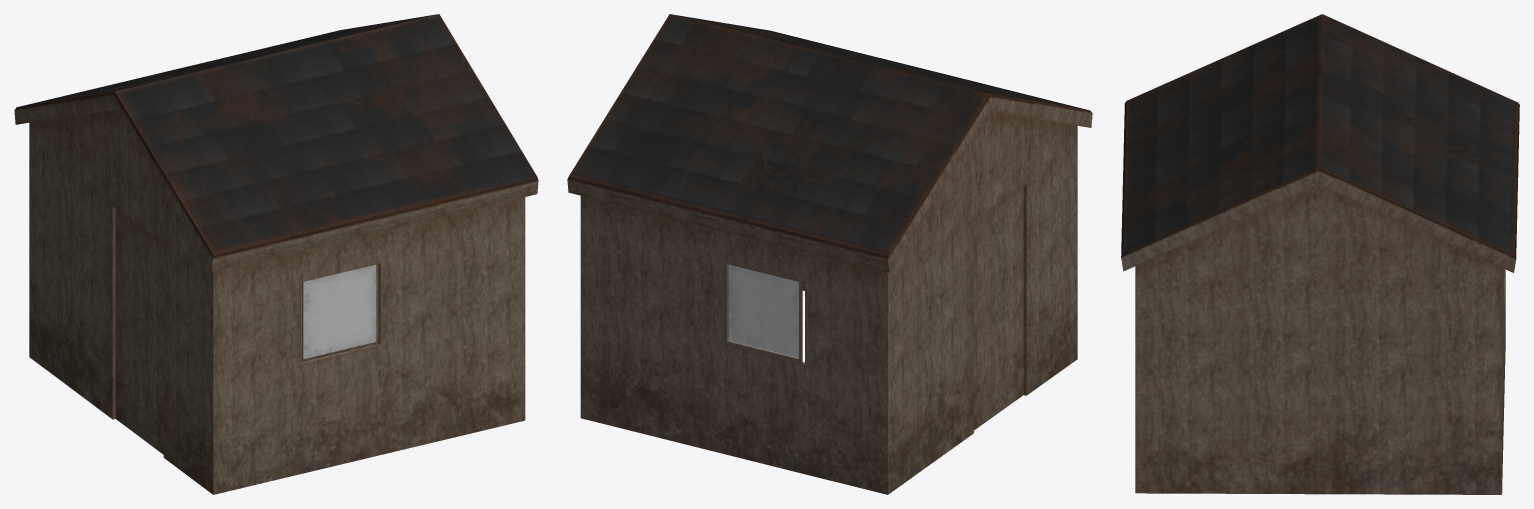
The model's file is cobertizo.glb.
3 views of the same model, side by side, from view 1: azimuth 30°, elevation 25°; view 2: azimuth 150°, elevation 25°; view 3: azimuth 270°, elevation 25° (orthographic). The views are drawn at different scales.
Parts seen in each view (by area): view 1: pCube10, polySurface3, pCube14, polySurface6; view 2: pCube10, polySurface3, pCube14, polySurface5; view 3: pCube10, polySurface3.
Part boxes in pixels (bbox=[...]): pCube10: bbox=[29, 109, 525, 494]; polySurface3: bbox=[14, 14, 538, 271]; pCube14: bbox=[115, 209, 163, 454]; polySurface6: bbox=[300, 264, 378, 362]; pCube10: bbox=[580, 111, 1077, 494]; polySurface3: bbox=[567, 14, 1092, 272]; pCube14: bbox=[974, 186, 1023, 430]; polySurface5: bbox=[723, 258, 802, 363]; pCube10: bbox=[1135, 184, 1505, 494]; polySurface3: bbox=[1121, 14, 1519, 272].
Bounding box in the file's own units: 10.94 × 10.74 × 11.79.
Materials: 2 (2 with a texture image).
